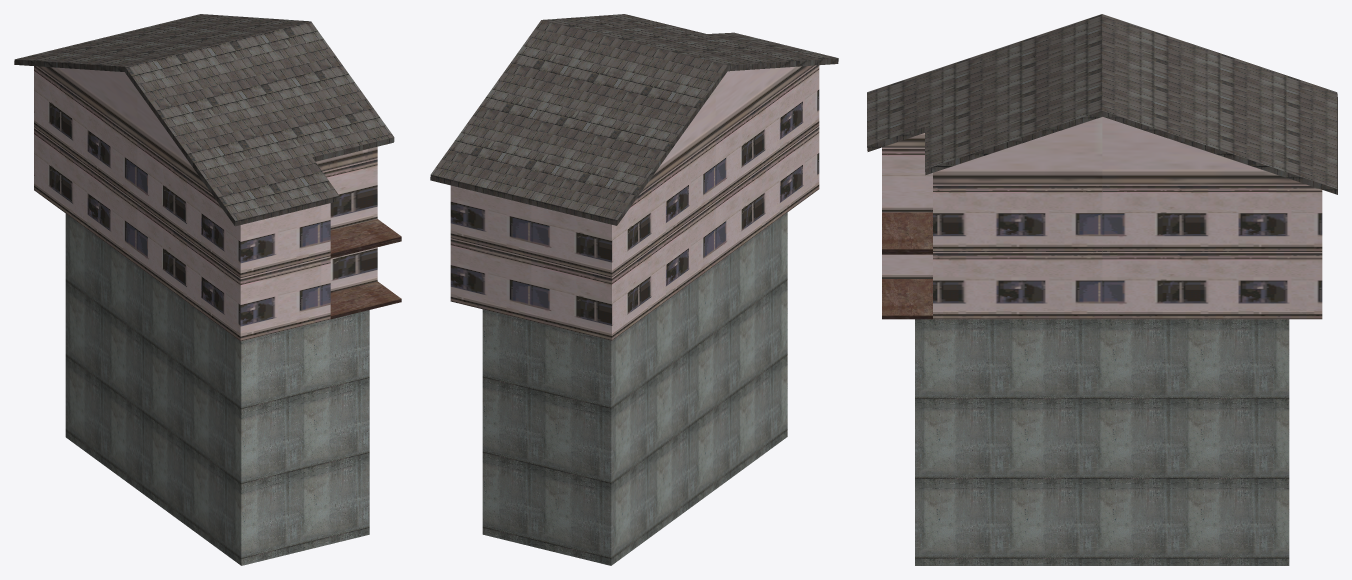
Rendered from hillhouse12_la.obj.
3 views of the same model, side by side, from view 1: azimuth 30°, elevation 25°; view 2: azimuth 150°, elevation 25°; view 3: azimuth 270°, elevation 25° (orthographic). The views are drawn at different scales.
Visible parts, largest first — view 1: hillhouse12_LA; view 2: hillhouse12_LA; view 3: hillhouse12_LA.
Boxes of the visible parts, x1,y1,x2,y2 form: hillhouse12_LA: [14, 14, 401, 565]; hillhouse12_LA: [430, 14, 838, 565]; hillhouse12_LA: [867, 14, 1337, 565].
Size of the model in its own units: 10.4 by 23.58 by 21.39.
